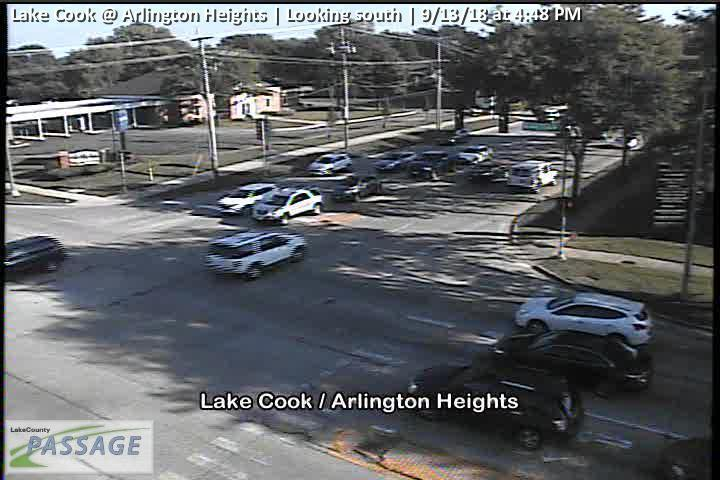SUV: (407, 362, 584, 452), (206, 228, 305, 280), (252, 186, 322, 225), (5, 237, 65, 280), (216, 182, 279, 215), (507, 159, 560, 192), (407, 150, 449, 179), (306, 153, 353, 176)
Sedan: (488, 330, 653, 394), (513, 289, 652, 347), (332, 176, 383, 200), (464, 160, 512, 182), (375, 149, 415, 171)
Truck: (456, 144, 495, 167)
